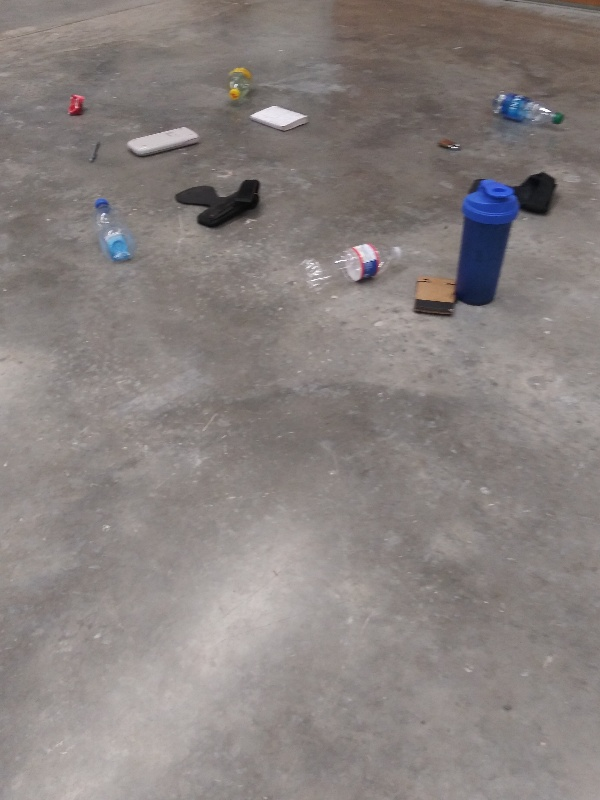bottle: (297, 242, 406, 293), (91, 195, 138, 263), (489, 89, 568, 129), (223, 59, 259, 101)
